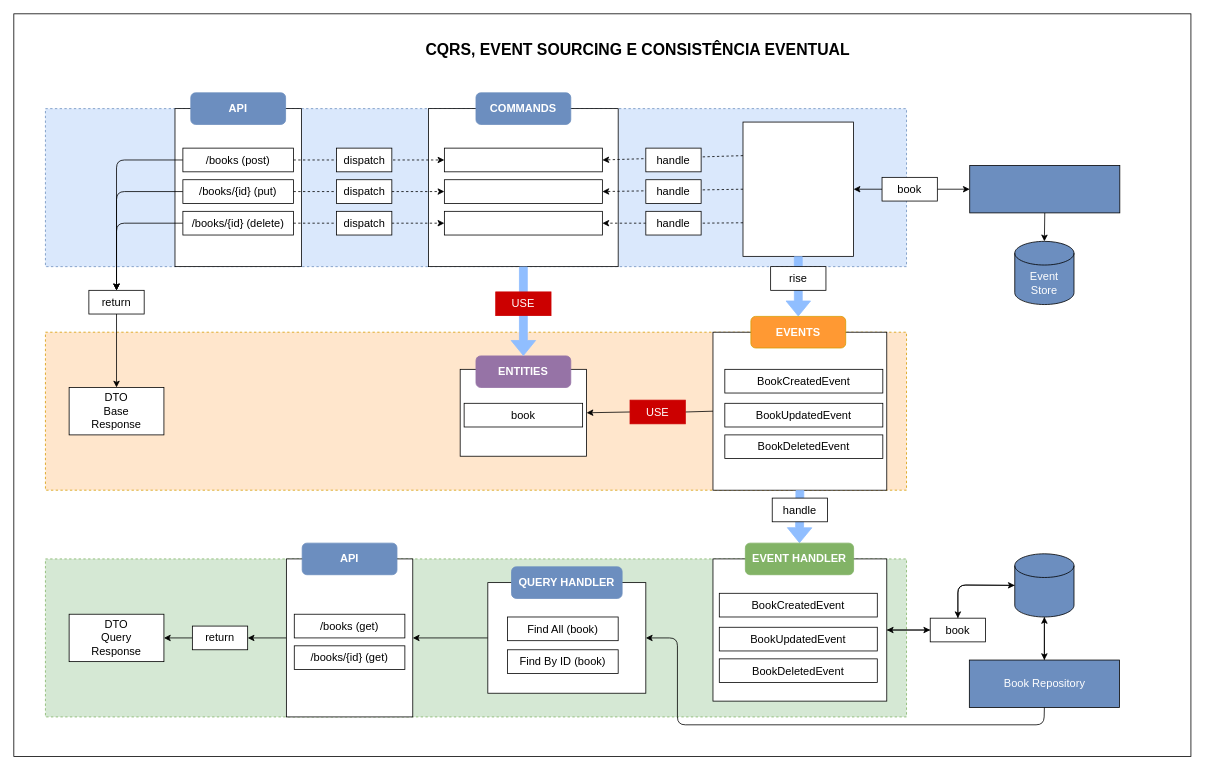
This 1205x770 diagram has some shape labels left out. Each missing label, with the box of its shape:
Book Database: (1014, 553, 1074, 617)
CreateBookCommand: (444, 147, 602, 172)
DeleteBookCommand: (444, 211, 602, 235)
Event Sourcing Repository: (969, 165, 1120, 213)
Handlers (Aggregates): (742, 121, 854, 256)
UpdateBookCommand: (444, 179, 602, 203)
